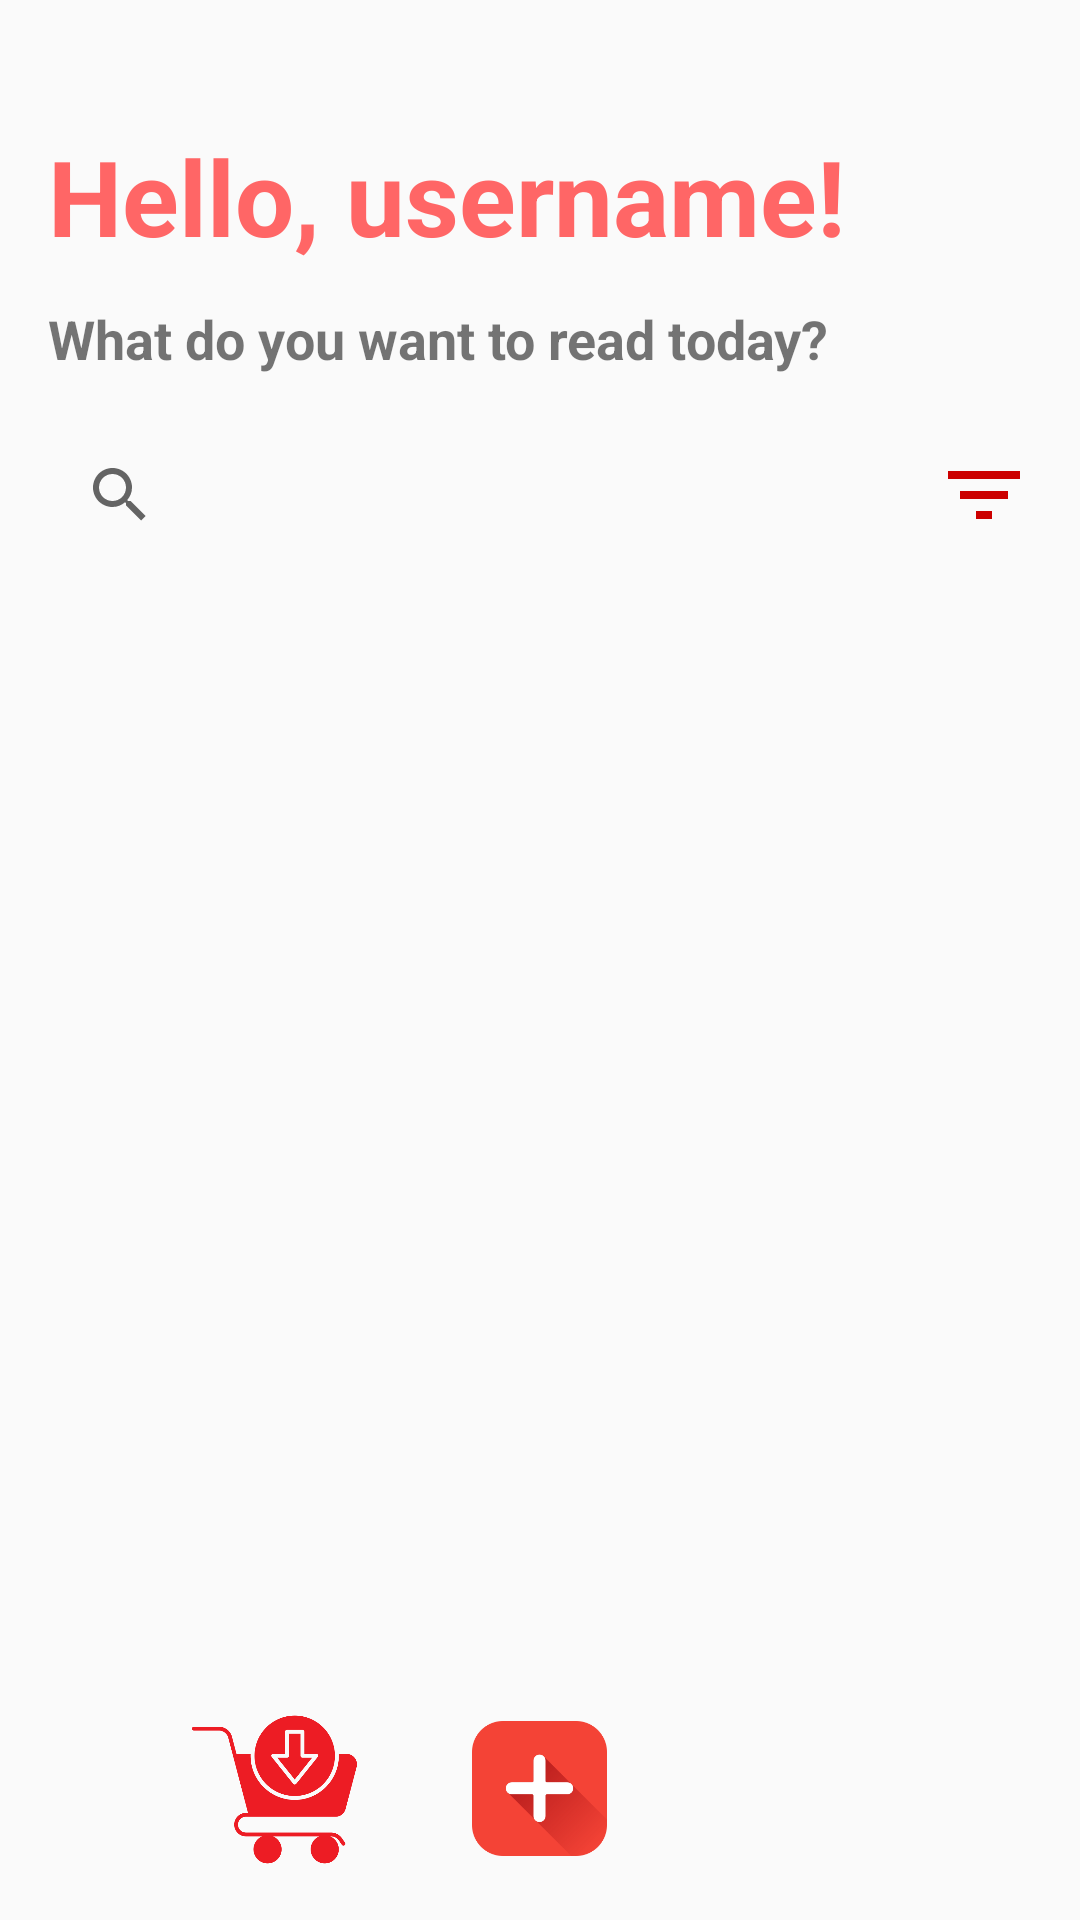

Screen size 1080w x 1920h. Icon name, then its box in pixels as bbox=(x1, y1, x2, y2):
Cart icon: bbox=(192, 1715, 357, 1864)
Filter icon: bbox=(948, 471, 1020, 519)
plusicon: bbox=(472, 1721, 607, 1856)
